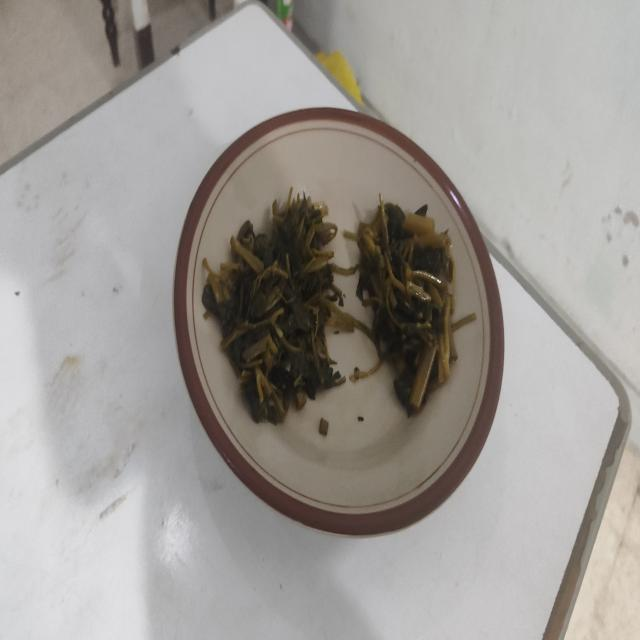tumis_kangkung: (202, 188, 354, 424), (344, 197, 476, 416)
